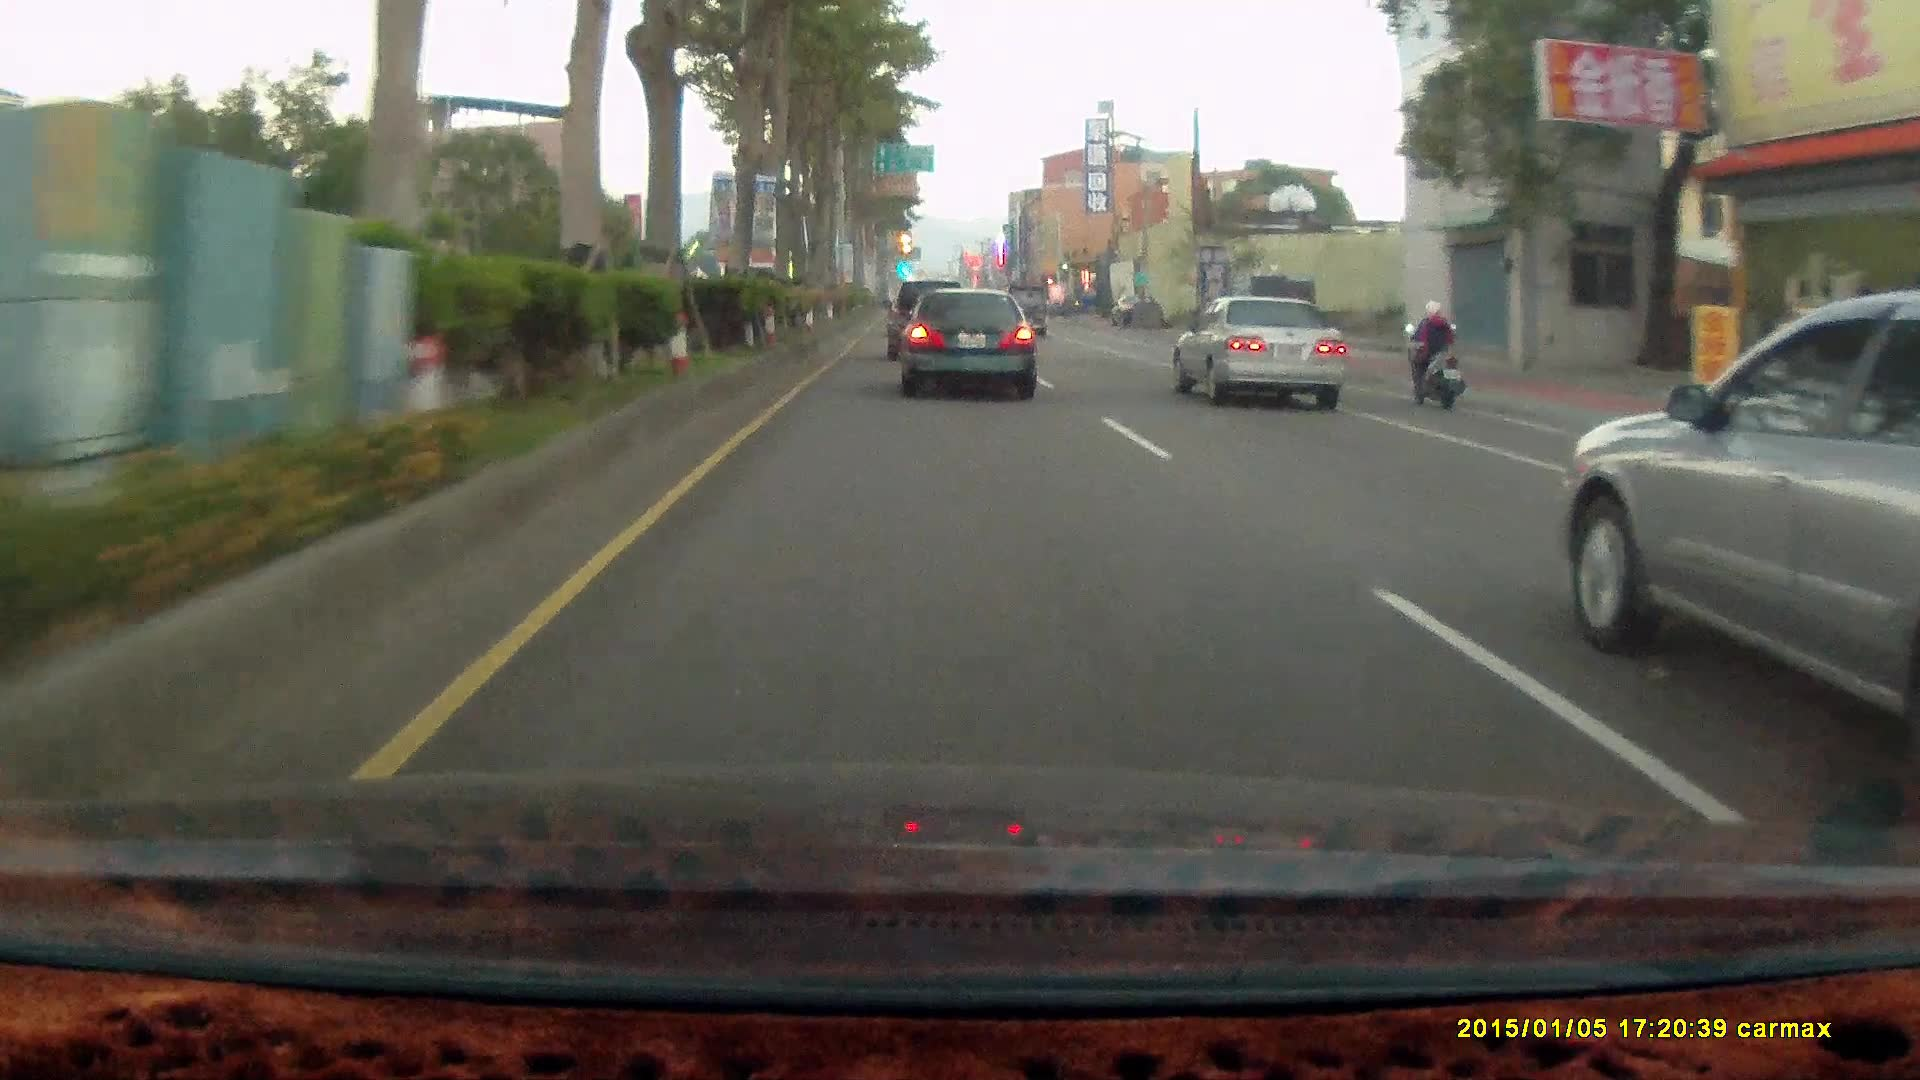rider: (1393, 290, 1475, 418), (1402, 296, 1467, 411)
vehicle: (1558, 306, 1920, 814), (1170, 294, 1347, 412), (1180, 300, 1348, 410), (898, 291, 1038, 403), (898, 289, 1037, 400), (1224, 280, 1314, 361), (887, 279, 973, 363), (884, 278, 966, 359), (1001, 284, 1048, 338)
